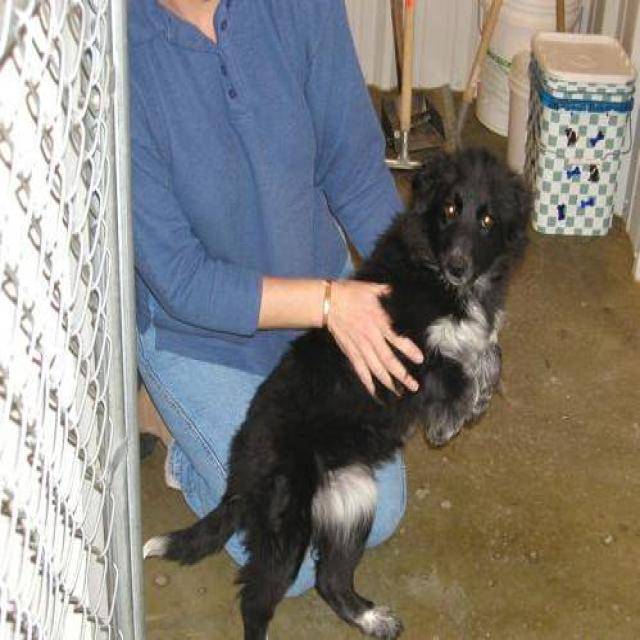dog: (141, 144, 534, 638)
